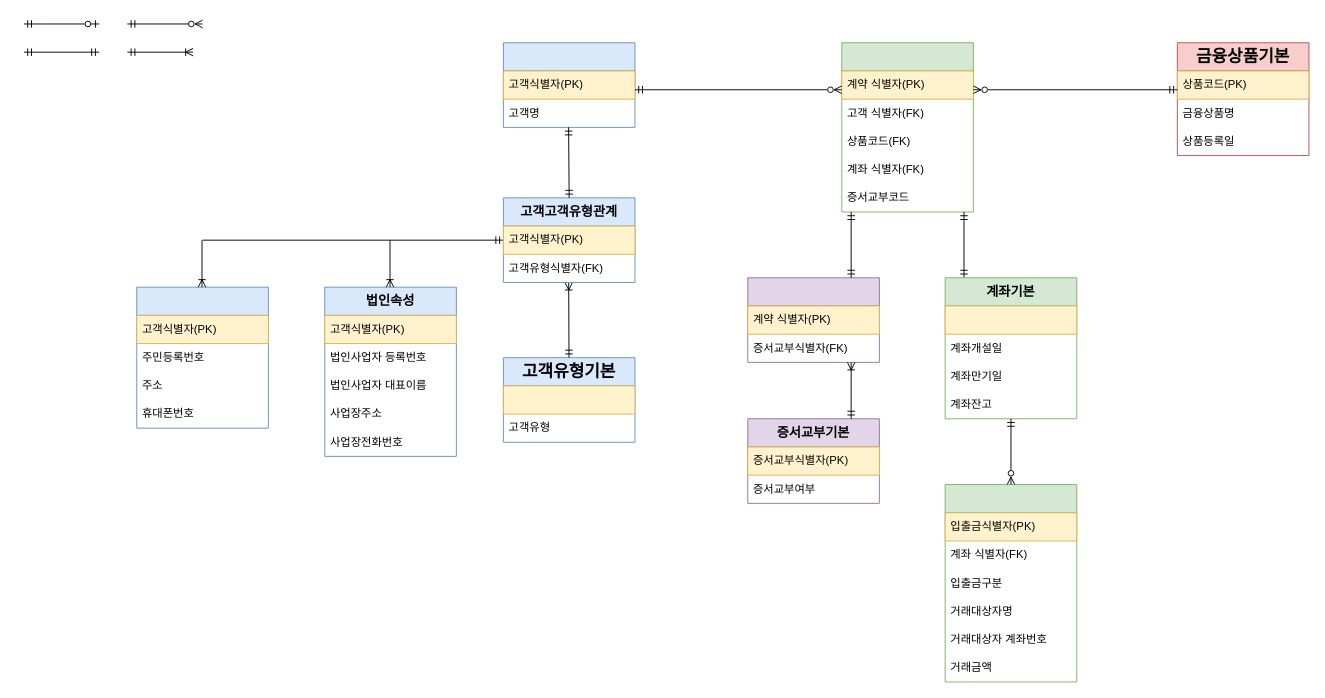
The diagram is 1325 pixels wide and 698 high, and some of its shapes have lost their labels. Here are the shapes that lost their labels. From the top down, the box of each, then its label:
(502, 42, 635, 127): 고객기본
(841, 42, 973, 212): 계약기본
(747, 277, 879, 362): 계약증서교부관계
(944, 305, 1077, 334): 계좌 식별자(PK)
(136, 286, 268, 428): 개인속성
(502, 385, 635, 414): 고객유형식별자(PK)
(944, 484, 1077, 682): 입출금기본
